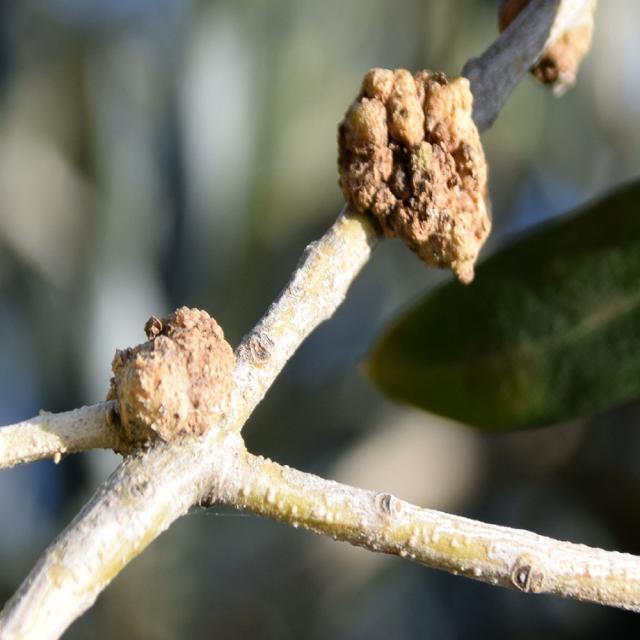Tuberculosis: (338, 69, 491, 282), (106, 306, 235, 452)
